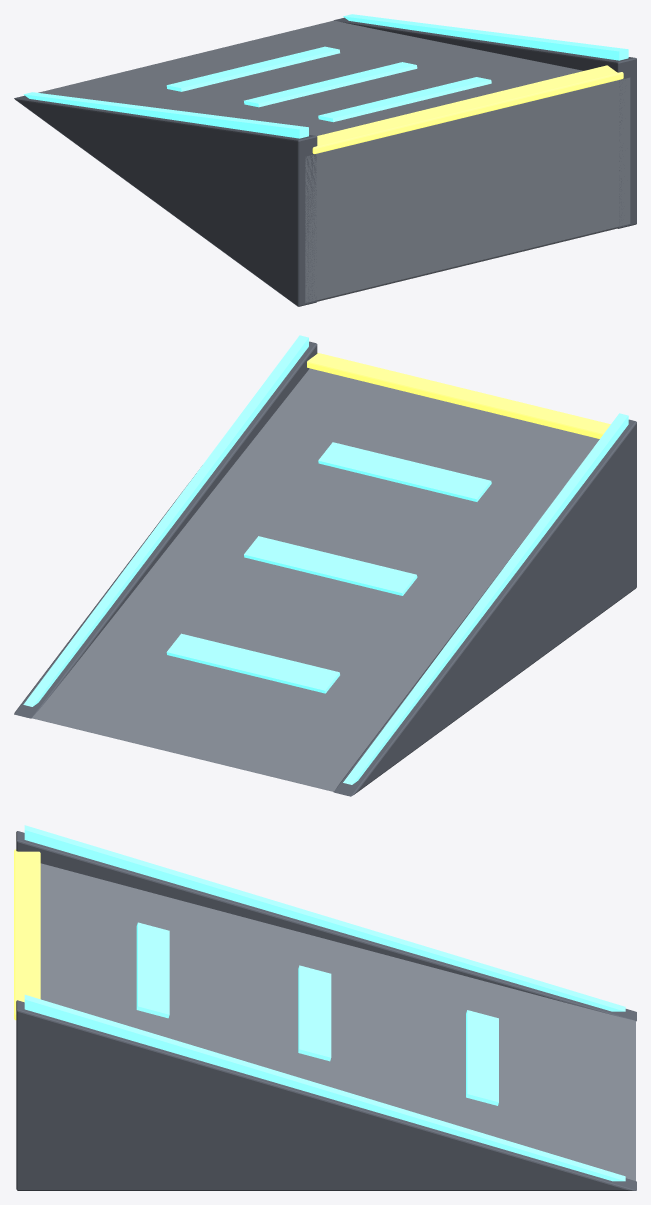
The model's file is stunt_ramp.glb.
3 views of the same model, one above another, from view 1: azimuth 30°, elevation 25°; view 2: azimuth 150°, elevation 25°; view 3: azimuth 270°, elevation 25° (orthographic). The views are drawn at different scales.
Parts seen in each view (by area): view 1: RampDeck, SideRailSteel_-2.42, LaunchLip, SideRailSteel_2.42, SideRailNeon_2.42, SideRailNeon_-2.42, RampStripe_2, RampStripe_0, RampStripe_1; view 2: RampDeck, SideRailSteel_-2.42, SideRailNeon_-2.42, SideRailNeon_2.42, LaunchLip, SideRailSteel_2.42, RampStripe_1, RampStripe_2, RampStripe_0; view 3: RampDeck, SideRailSteel_2.42, SideRailNeon_2.42, SideRailNeon_-2.42, SideRailSteel_-2.42, LaunchLip, RampStripe_1, RampStripe_2, RampStripe_0.
Part boxes in pixels (x1,y1,x2,y2): RampDeck: [38, 20, 630, 302]; SideRailSteel_-2.42: [14, 95, 317, 306]; LaunchLip: [312, 65, 623, 153]; SideRailSteel_2.42: [334, 17, 636, 228]; SideRailNeon_2.42: [343, 14, 628, 60]; SideRailNeon_-2.42: [23, 92, 308, 138]; RampStripe_2: [318, 77, 491, 122]; RampStripe_0: [166, 46, 339, 91]; RampStripe_1: [244, 62, 417, 107]; RampDeck: [32, 368, 599, 791]; SideRailSteel_-2.42: [333, 419, 636, 796]; SideRailNeon_-2.42: [343, 413, 628, 784]; SideRailNeon_2.42: [23, 335, 308, 706]; LaunchLip: [307, 352, 610, 438]; SideRailSteel_2.42: [14, 341, 317, 718]; RampStripe_1: [244, 536, 417, 595]; RampStripe_2: [318, 442, 491, 501]; RampStripe_0: [166, 633, 339, 693]; RampDeck: [40, 863, 635, 1180]; SideRailSteel_2.42: [16, 1000, 636, 1190]; SideRailNeon_2.42: [24, 994, 625, 1181]; SideRailNeon_-2.42: [24, 825, 625, 1011]; SideRailSteel_-2.42: [16, 831, 636, 1021]; LaunchLip: [14, 849, 40, 1020]; RampStripe_1: [298, 965, 331, 1061]; RampStripe_2: [136, 922, 169, 1018]; RampStripe_0: [466, 1010, 498, 1105].
Size of the model in its own units: 5.14 by 2.52 by 7.52.
